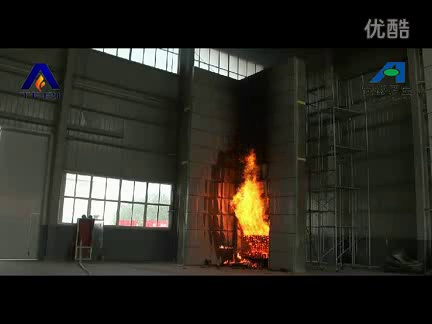fire: (229, 150, 269, 237)
